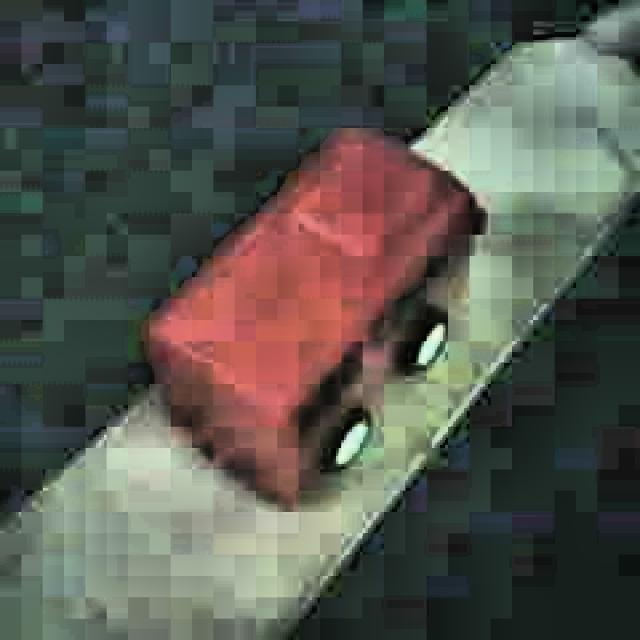bus: (147, 127, 484, 510)
